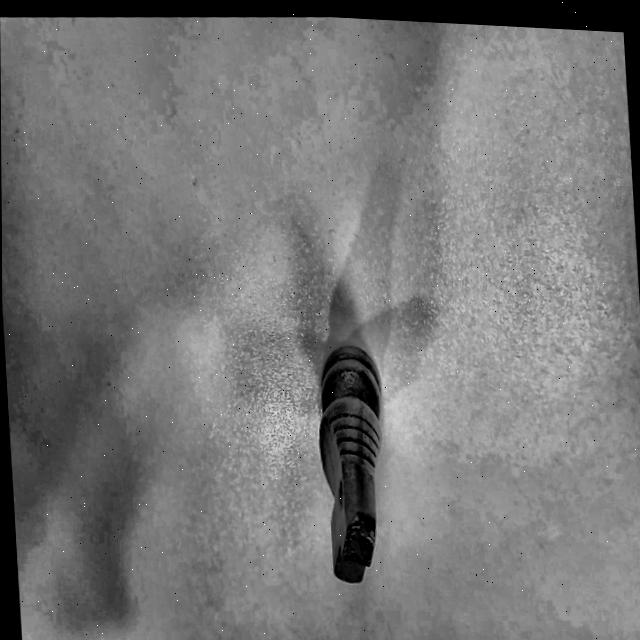black-knight: (305, 328, 403, 593)
